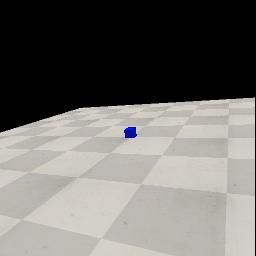box: (124, 127, 137, 138)
